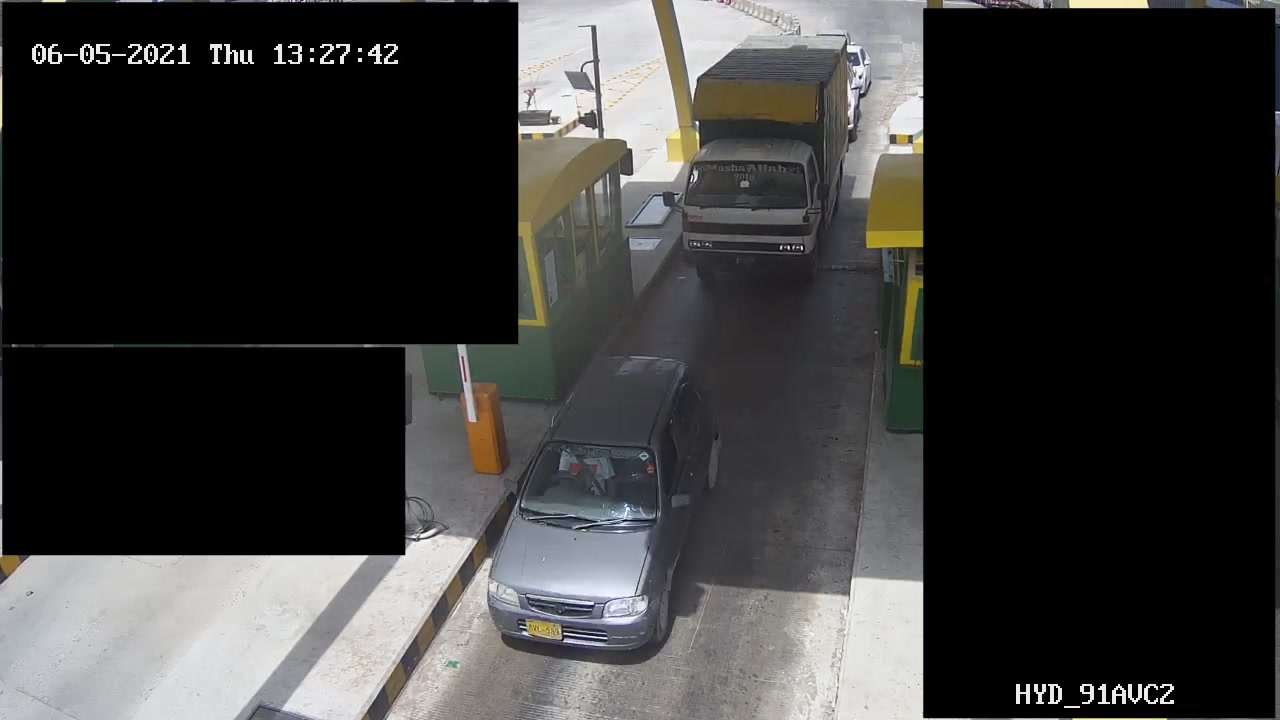F5: (668, 27, 853, 291)
